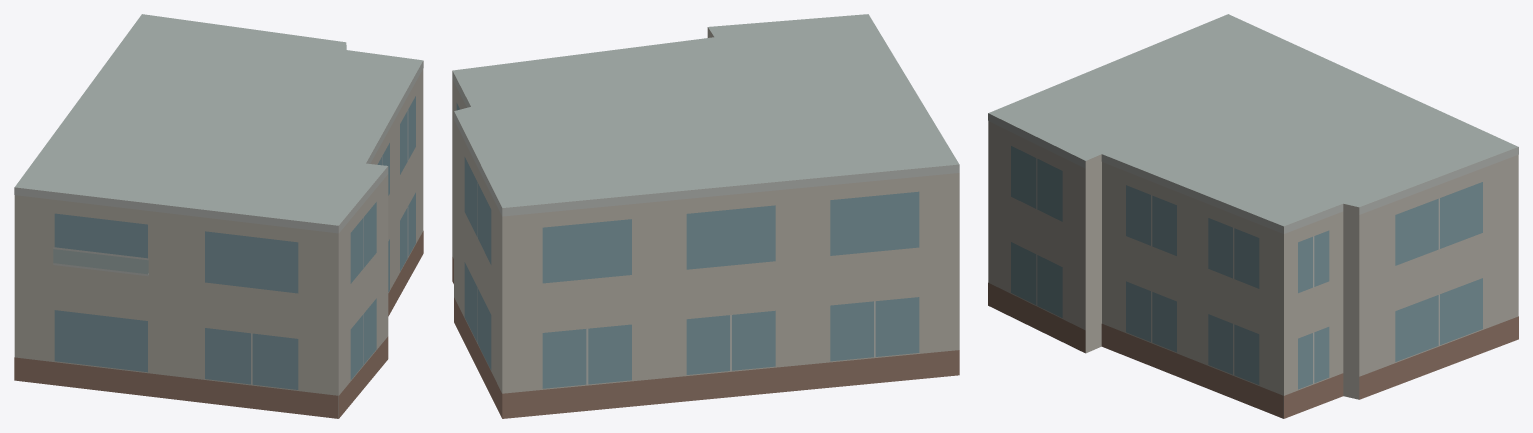
Rendered from survey-upis-32660041.glb.
3 views of the same model, side by side, from view 1: azimuth 30°, elevation 25°; view 2: azimuth 150°, elevation 25°; view 3: azimuth 270°, elevation 25° (orthographic). The views are drawn at different scales.
Parts seen in each view (by area): view 1: survey-upis-32660041.tmp; view 2: survey-upis-32660041.tmp; view 3: survey-upis-32660041.tmp.
Boxes of the visible parts, x1=… form: survey-upis-32660041.tmp: x1=14, y1=14, x2=423, y2=418; survey-upis-32660041.tmp: x1=452, y1=14, x2=959, y2=418; survey-upis-32660041.tmp: x1=988, y1=14, x2=1518, y2=418.
Size of the model in its own units: 14.45 by 6.1 by 15.25.
